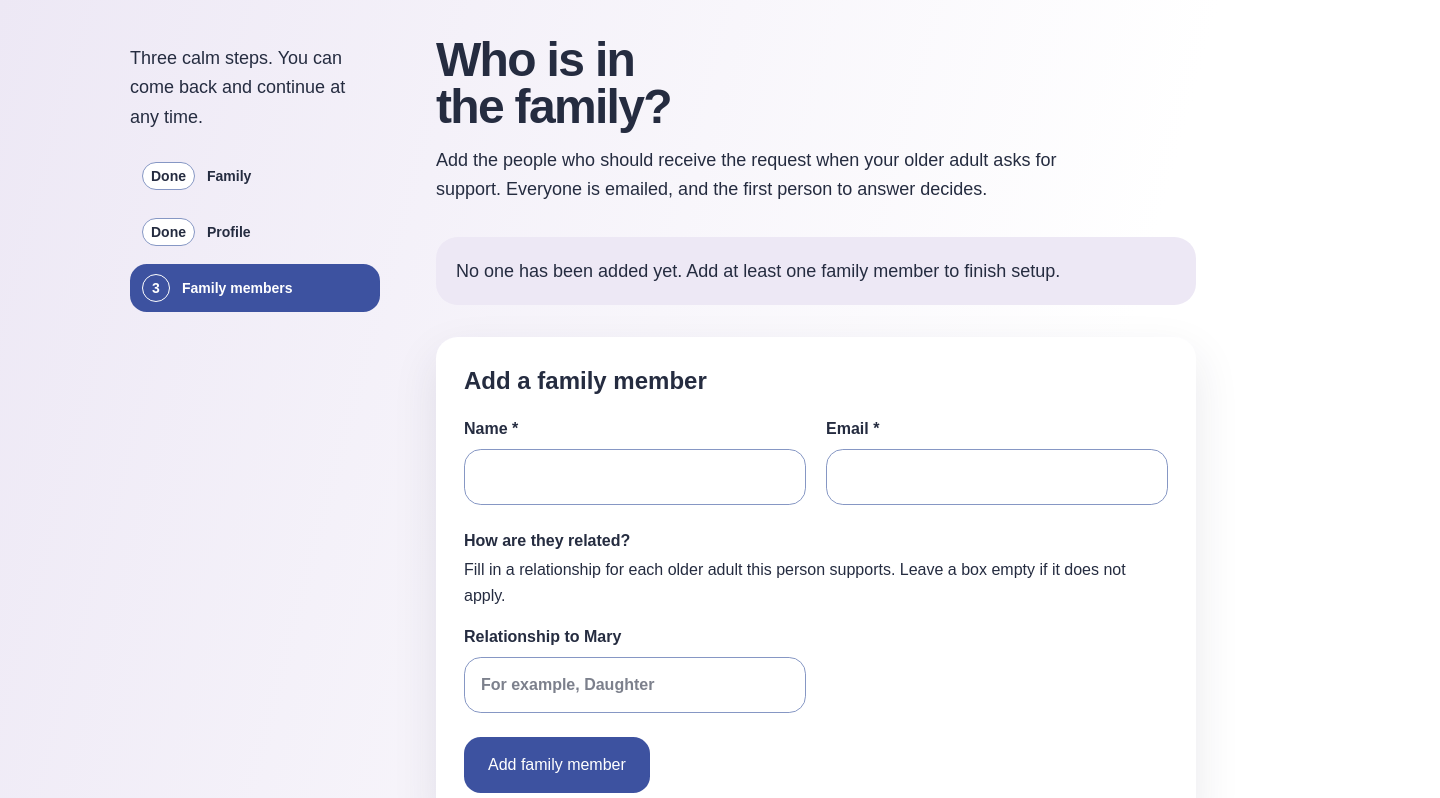
Test: SetupWizard › requires at least one relationship before saving a family member
Type "Anna Lim" into the field labelled "Name *" at point(635, 477), box [464,449,806,505]
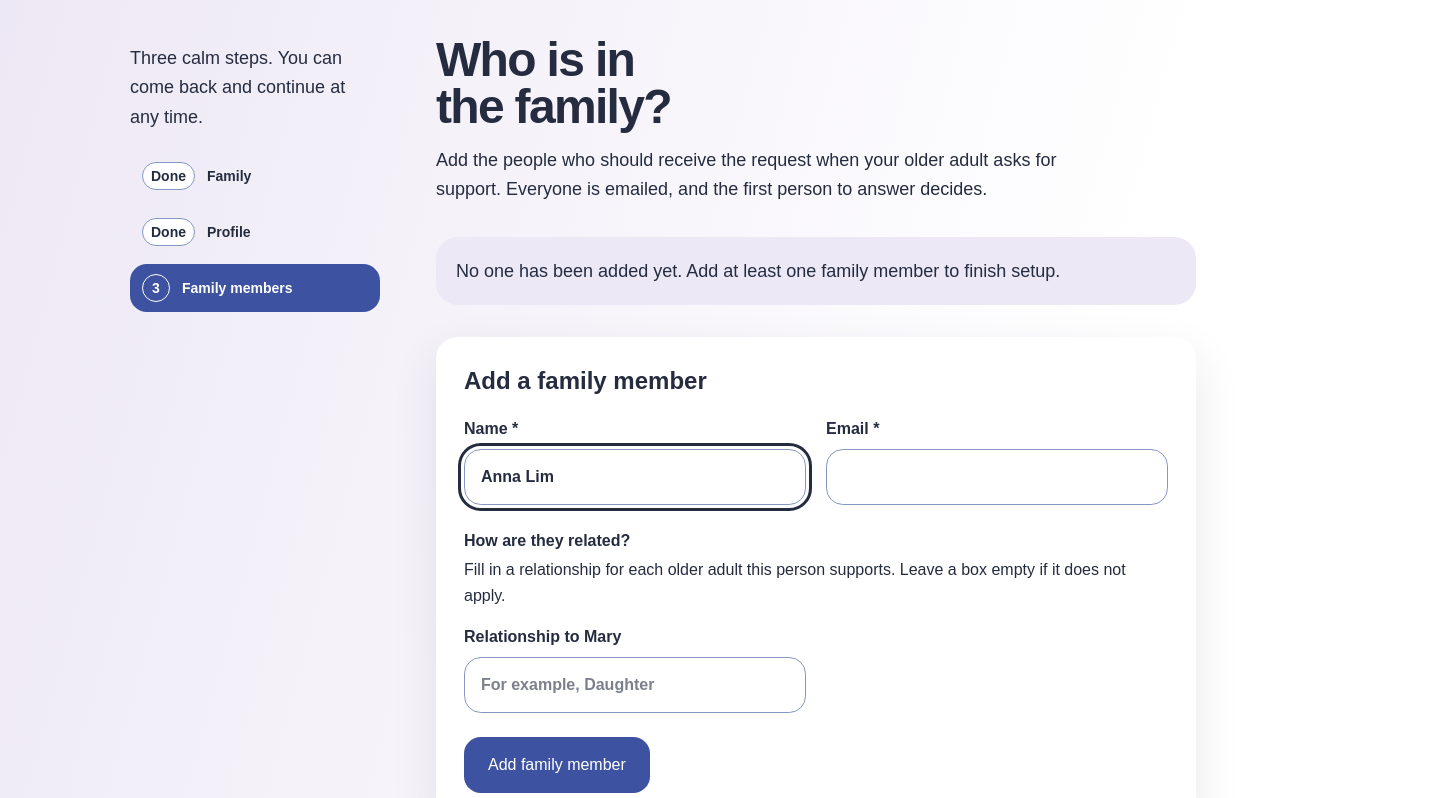
Type "anna@example.com" into the field labelled "Email *" at point(997, 477), box [826,449,1168,505]
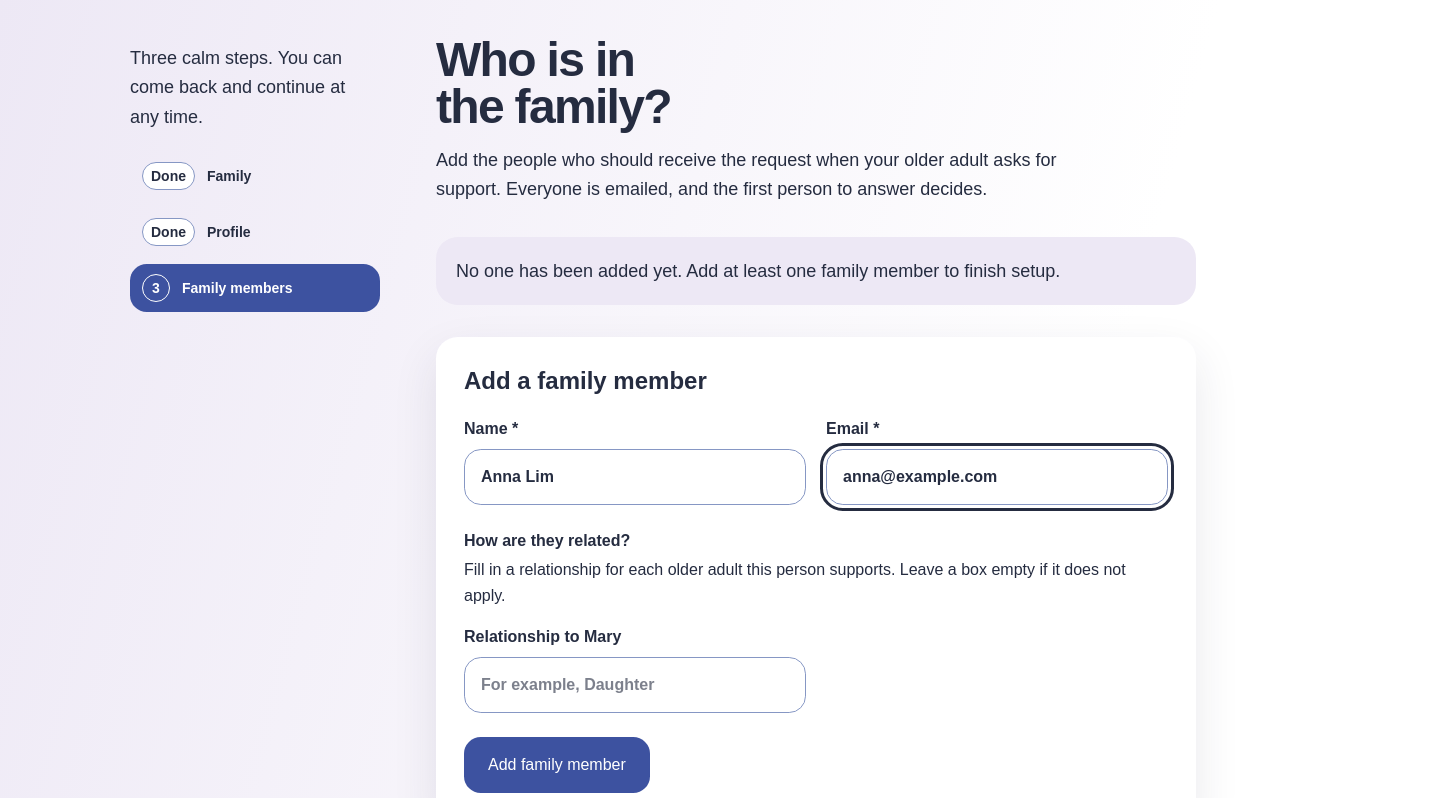
Click the button "Add family member" at point(557, 765), box [464,737,650,793]
(page scrolled)
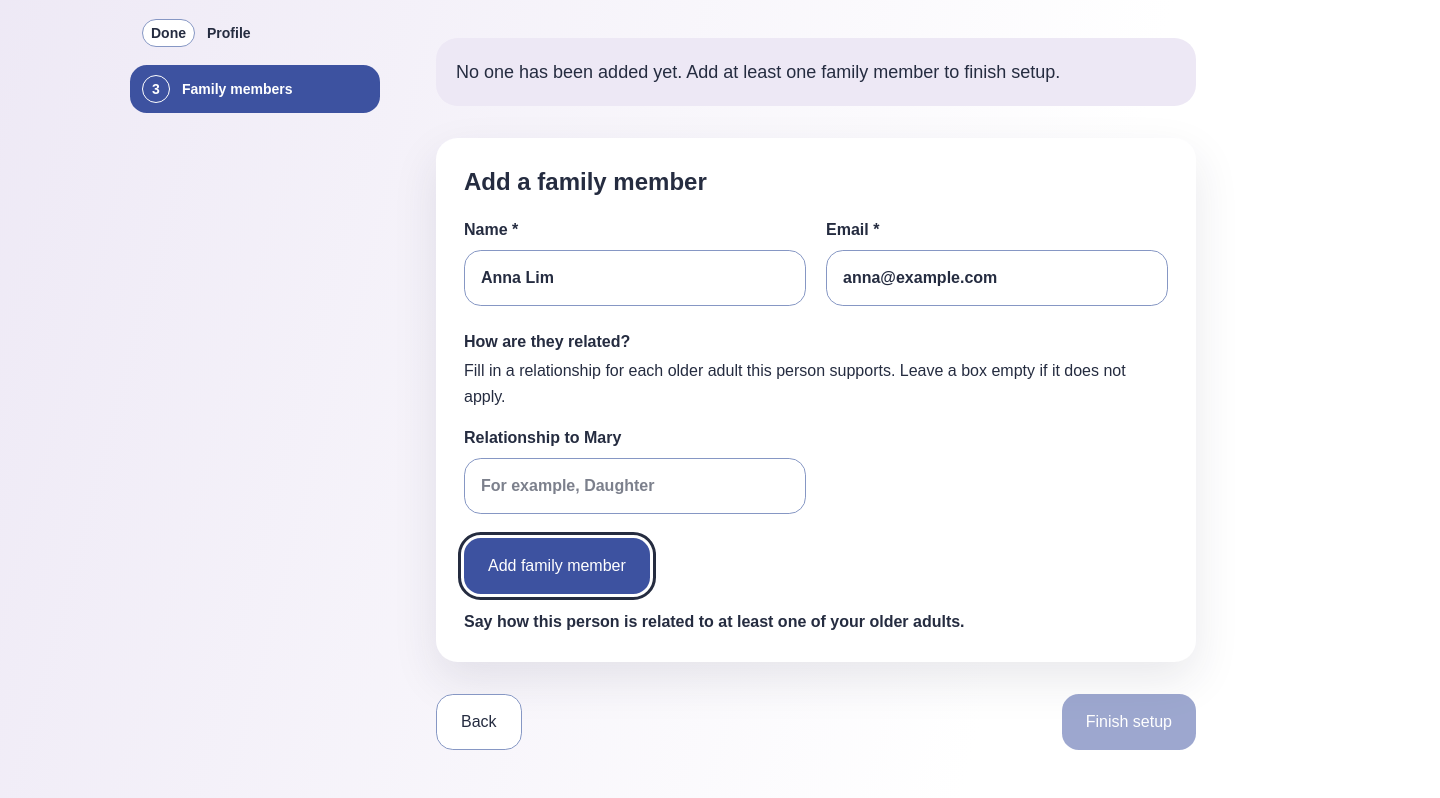
Expected: the message shows "how this person is related", [464,613,964,630]
